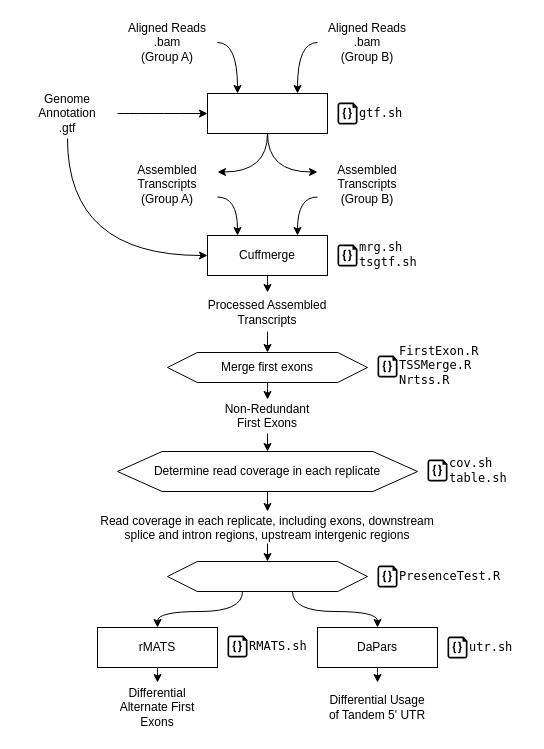
The diagram is 544 pixels wide and 749 high, and some of its shapes have lost their labels. The centre of each missing label's shape, as x and y in pixels:
Apply Logistic Model: [267,576]
Cufflinks (RABT mode): [267,113]
